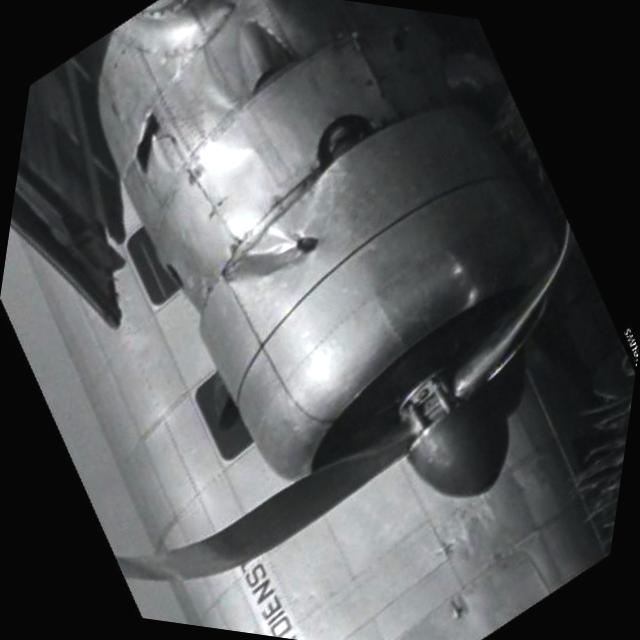dent: (233, 200, 318, 302)
